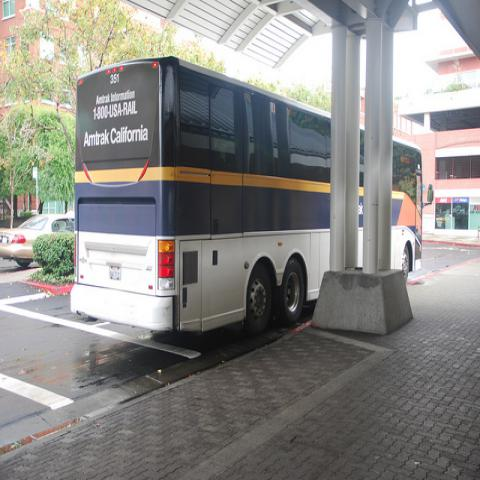bus: (70, 54, 421, 336)
car: (0, 214, 75, 268)
